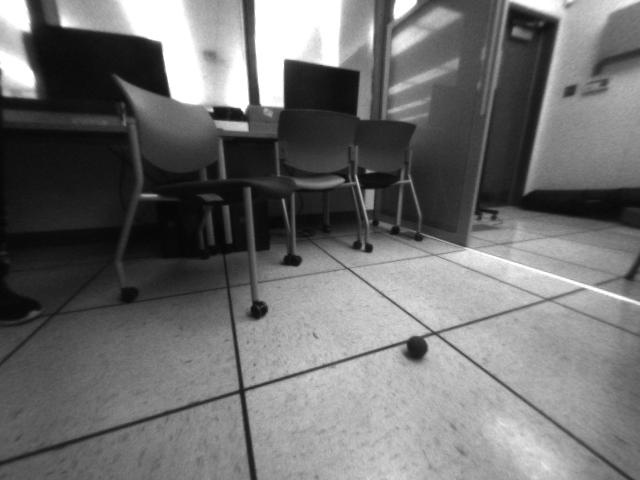dogtoy: (399, 328, 433, 365)
